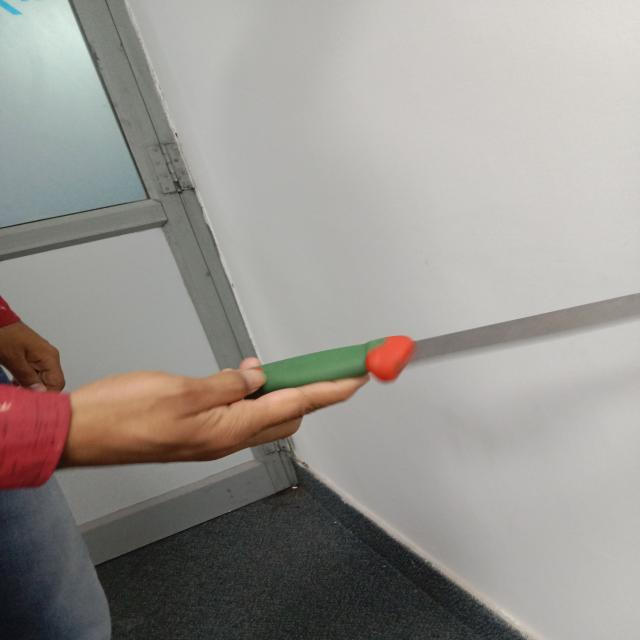Knife: (249, 291, 640, 398)
Knife_Handle: (50, 261, 640, 491)
